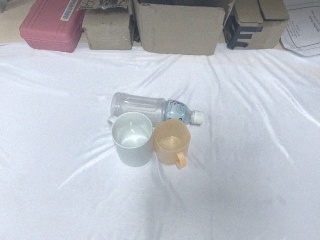bottle: (110, 92, 204, 126)
box: (132, 1, 235, 57), (223, 1, 288, 49), (82, 7, 135, 51)
cup: (111, 112, 154, 168), (153, 118, 191, 170)
